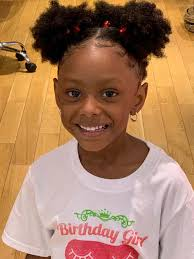person: (34, 1, 170, 153)
